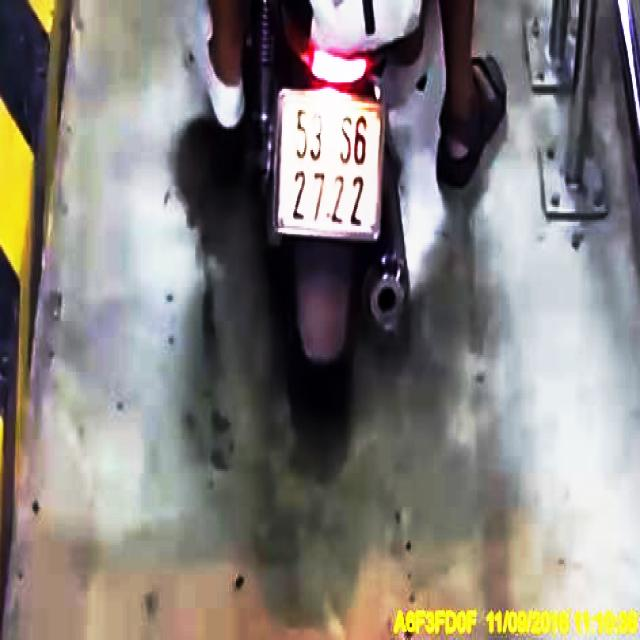license_plate: (277, 95, 389, 241)
